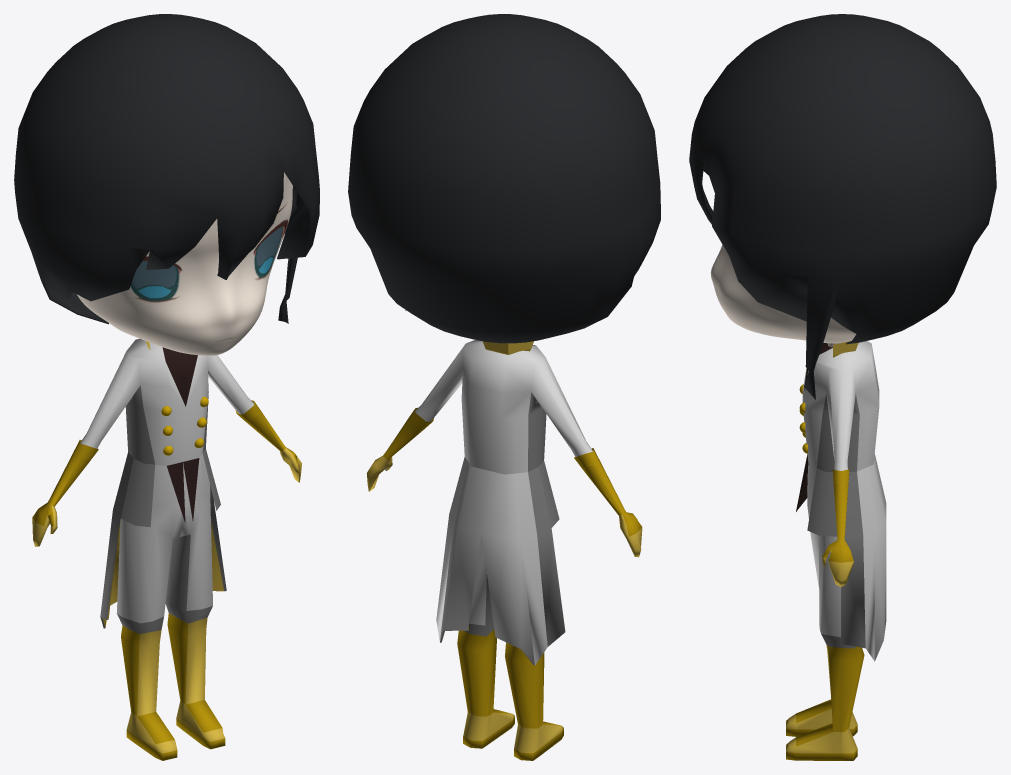
The model's file is SPADES_WHITE.fbx.
The picture shows the model from 3 angles, left to right: view 1: azimuth 30°, elevation 25°; view 2: azimuth 150°, elevation 25°; view 3: azimuth 270°, elevation 25°; orthographic projection. The views are drawn at different scales.
Parts seen in each view (by area): view 1: Sphere.008, Cube, Sphere.003; view 2: Sphere.008, Cube; view 3: Sphere.008, Cube, Sphere.003.
Part boxes in pixels (x1,y1,x2,y2): Sphere.008: (14, 14, 319, 324); Cube: (32, 338, 301, 760); Sphere.003: (77, 172, 292, 355); Sphere.008: (348, 14, 660, 343); Cube: (367, 340, 642, 760); Sphere.008: (689, 14, 996, 399); Cube: (786, 341, 886, 760); Sphere.003: (710, 244, 856, 343).
Size of the model in its own units: 319 by 803 by 312.
11 materials, 1 textured.
